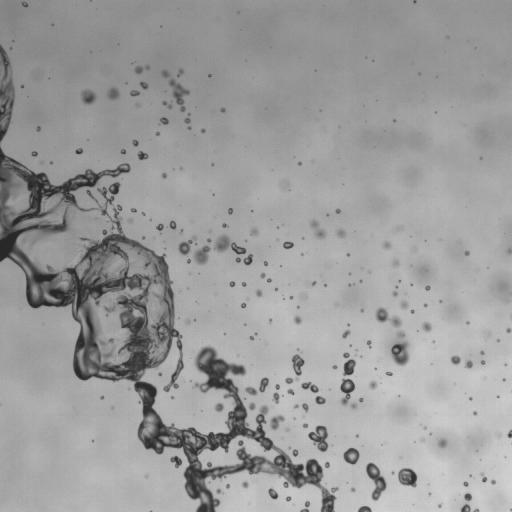droplet: (308, 425, 328, 452), (390, 341, 409, 366), (398, 468, 417, 487), (178, 236, 196, 255), (343, 448, 359, 464), (81, 90, 95, 104), (270, 415, 284, 429), (301, 382, 318, 393), (236, 254, 252, 265), (107, 87, 119, 99), (170, 455, 181, 468), (268, 487, 278, 499), (450, 355, 460, 364), (300, 501, 309, 511), (137, 151, 148, 159), (336, 229, 345, 238), (422, 322, 431, 331), (214, 403, 223, 412), (283, 241, 293, 249), (315, 396, 325, 404), (273, 392, 279, 403), (250, 227, 258, 235), (383, 241, 391, 249), (293, 316, 301, 324), (342, 330, 350, 338), (369, 381, 377, 389), (438, 439, 446, 447), (169, 220, 176, 229), (140, 82, 148, 89), (160, 117, 168, 124), (400, 301, 407, 309), (397, 331, 405, 338), (465, 360, 472, 368), (130, 90, 139, 96), (481, 473, 487, 482), (162, 70, 169, 77), (156, 224, 163, 231), (391, 259, 398, 266), (464, 493, 471, 500), (94, 216, 102, 222), (302, 403, 308, 411), (75, 148, 82, 154), (287, 388, 294, 394), (292, 449, 298, 456), (256, 289, 261, 297), (184, 117, 190, 123), (132, 140, 138, 146), (282, 181, 288, 187), (242, 481, 248, 487), (178, 69, 183, 76), (366, 340, 371, 347), (31, 151, 37, 156), (229, 281, 235, 286), (350, 403, 356, 408), (216, 488, 222, 493), (161, 173, 166, 178), (260, 273, 265, 278), (425, 285, 430, 290), (392, 291, 397, 296), (241, 303, 246, 308), (463, 481, 468, 486), (286, 496, 291, 501), (228, 208, 232, 214), (22, 2, 27, 6), (36, 126, 40, 131), (121, 149, 125, 154), (131, 208, 136, 212), (222, 223, 227, 227), (464, 251, 469, 255), (506, 328, 511, 332), (275, 384, 279, 389), (350, 487, 355, 491), (386, 372, 392, 375), (221, 108, 225, 112), (336, 209, 340, 213), (267, 278, 271, 282), (311, 281, 315, 285), (242, 282, 246, 286), (302, 294, 306, 298), (410, 309, 414, 313), (481, 360, 485, 364), (333, 365, 337, 369), (294, 404, 298, 408), (473, 411, 477, 415), (303, 423, 307, 427), (491, 480, 495, 484), (508, 248, 511, 253), (201, 129, 205, 132), (128, 219, 132, 222), (207, 238, 210, 242), (187, 258, 190, 262), (186, 319, 189, 323), (250, 336, 253, 340), (359, 398, 363, 401), (226, 484, 229, 488), (156, 132, 159, 135), (298, 162, 301, 165), (264, 262, 267, 265), (360, 309, 363, 312), (480, 351, 483, 354), (421, 438, 424, 441), (438, 504, 441, 507), (413, 0, 416, 2), (188, 126, 190, 129), (347, 253, 349, 256), (290, 296, 292, 299), (424, 304, 427, 306), (159, 372, 161, 375), (100, 396, 103, 398), (50, 162, 52, 164), (142, 212, 144, 214), (359, 280, 361, 282), (275, 288, 277, 290), (269, 320, 271, 322), (286, 429, 288, 431), (498, 434, 500, 436), (392, 471, 394, 473)
ligament: (0, 147, 335, 511), (193, 235, 246, 265), (0, 45, 14, 141), (340, 352, 355, 405), (366, 462, 386, 500), (169, 79, 189, 111), (285, 354, 304, 383), (375, 307, 401, 327), (245, 377, 268, 395), (310, 220, 326, 239), (461, 504, 479, 511), (134, 65, 149, 73), (357, 506, 372, 511), (162, 101, 172, 108), (507, 429, 511, 437), (510, 508, 511, 511)
